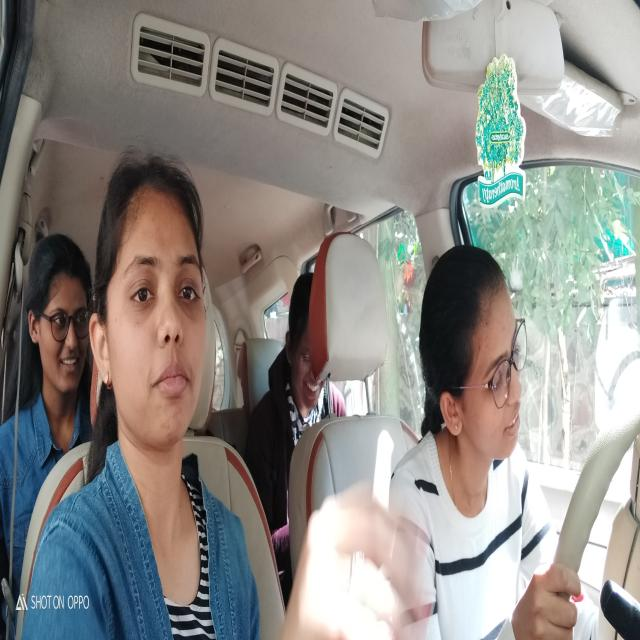drowsy: (422, 229, 530, 476)
person: (94, 150, 210, 462), (25, 233, 94, 417), (286, 266, 330, 413)
